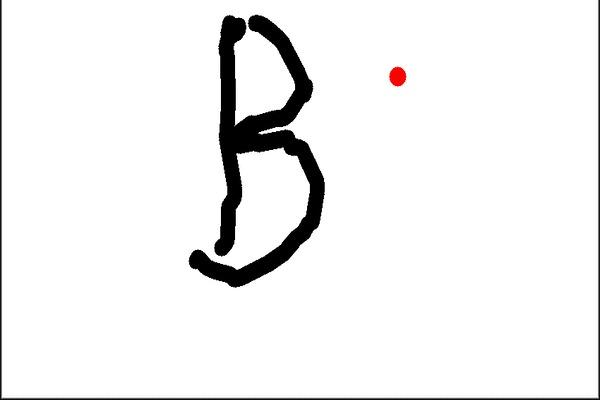B: (176, 9, 334, 292)
